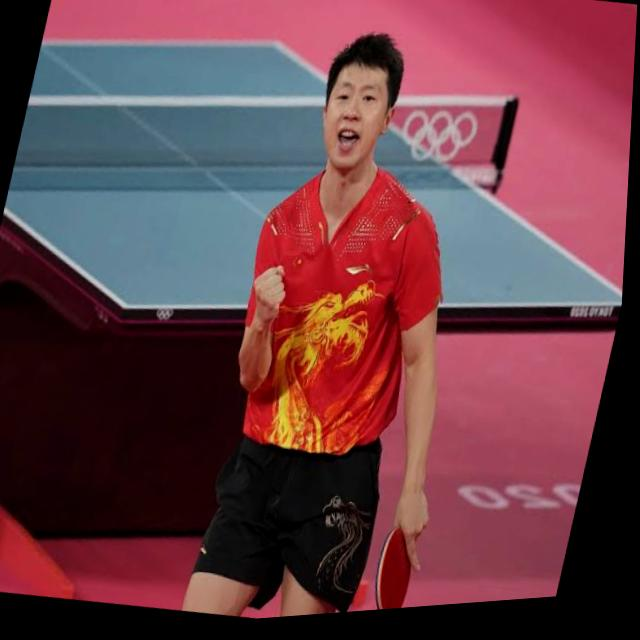TT Net: (11, 91, 521, 180)
TT Racket: (366, 508, 422, 610)
TT Table: (5, 39, 622, 310)
